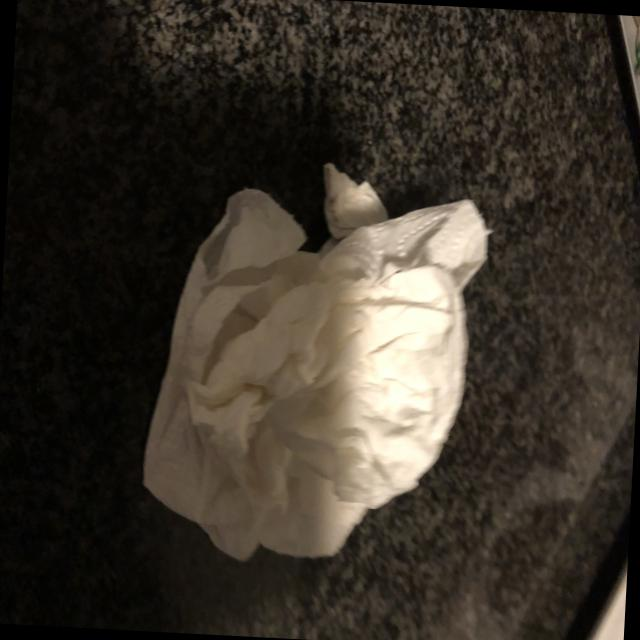organic waste: (127, 155, 494, 582)
